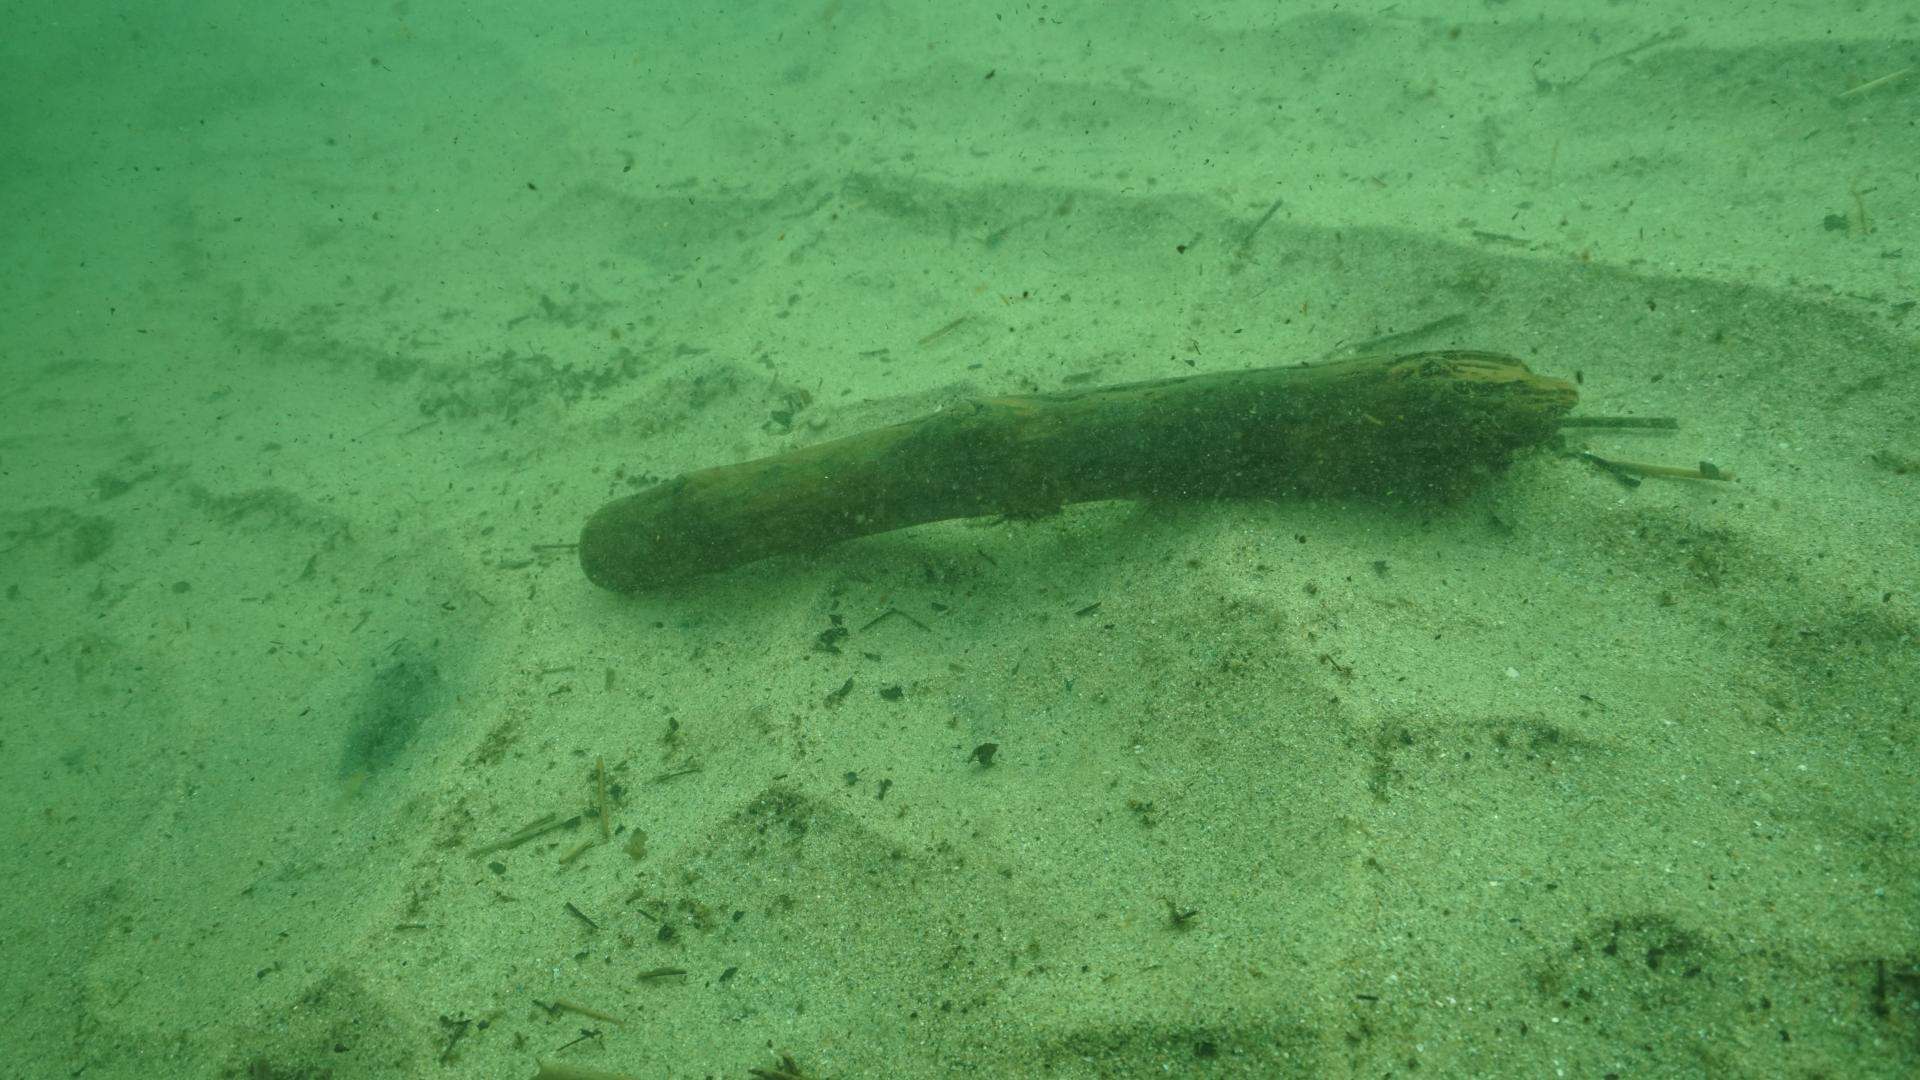wood: (574, 345, 1578, 589)
